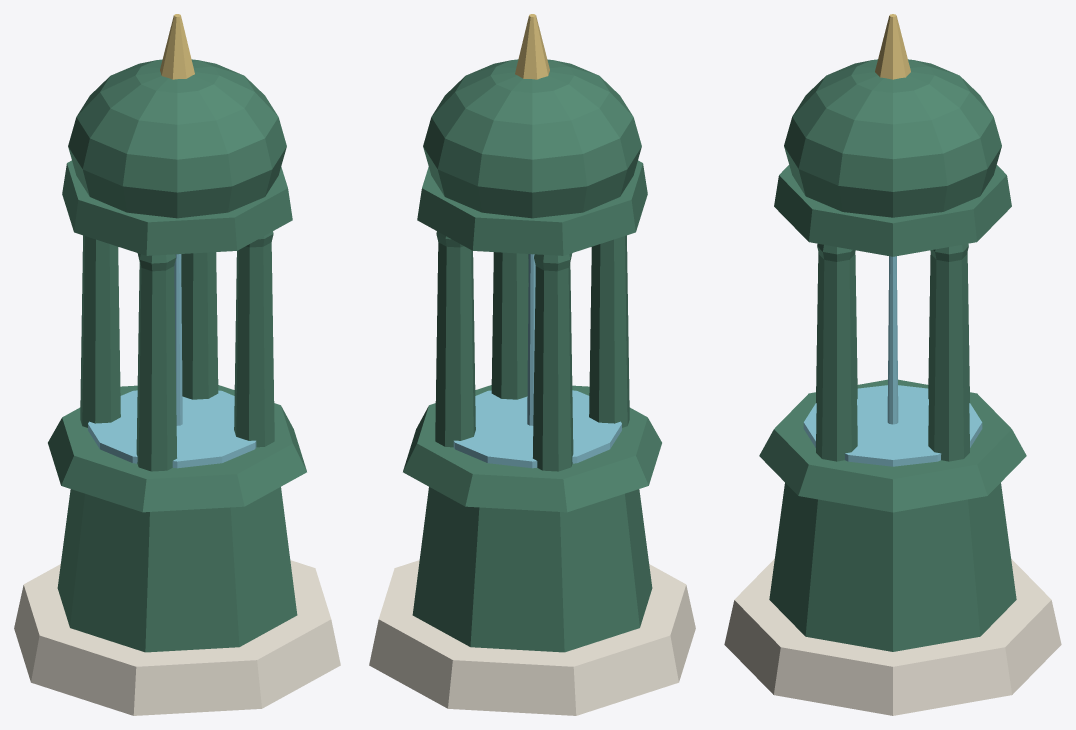
The model's file is Paris_WallaceFountain.fbx.
3 renders of one model, left to right at view 1: azimuth 30°, elevation 25°; view 2: azimuth 150°, elevation 25°; view 3: azimuth 270°, elevation 25°, orthographic.
Visible parts, largest first — view 1: Paris_WallaceFountain; view 2: Paris_WallaceFountain; view 3: Paris_WallaceFountain.
Boxes of the visible parts, x1=… form: Paris_WallaceFountain: x1=14, y1=14, x2=340, y2=715; Paris_WallaceFountain: x1=369, y1=14, x2=695, y2=715; Paris_WallaceFountain: x1=724, y1=14, x2=1061, y2=715.
Bounding box in the file's own units: 1.36 × 2.8 × 1.36.
